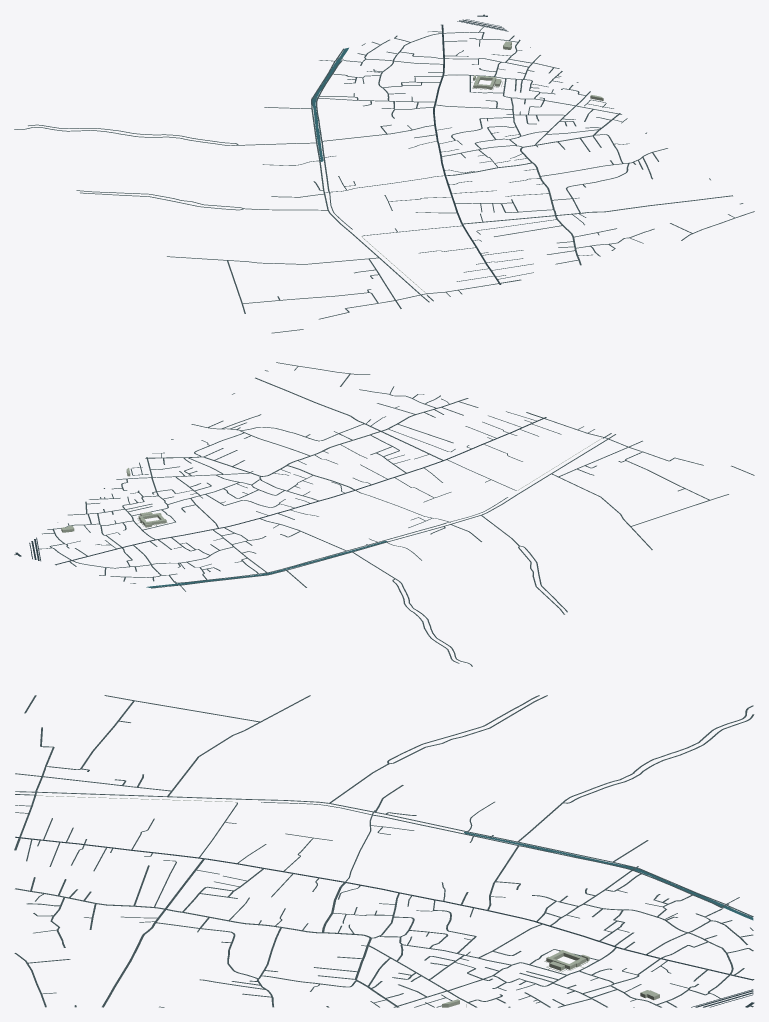
3 views of the same model, one above another, from view 1: azimuth 30°, elevation 25°; view 2: azimuth 150°, elevation 25°; view 3: azimuth 270°, elevation 25° (orthographic). The views are drawn at different scales.
Visible parts, largest first — view 1: street, major; view 2: street, major; view 3: street, major, water, building.
Part boxes in pixels (box(x1,y1,x2,y2)): street: box(14, 14, 754, 333); major: box(433, 15, 508, 284); street: box(14, 362, 754, 666); major: box(15, 417, 546, 564); street: box(14, 695, 754, 1007); major: box(15, 836, 754, 1007); water: box(464, 832, 753, 920); building: box(442, 950, 659, 1007).
Size of the model in its own units: 2005 by 10.7 by 2007.
